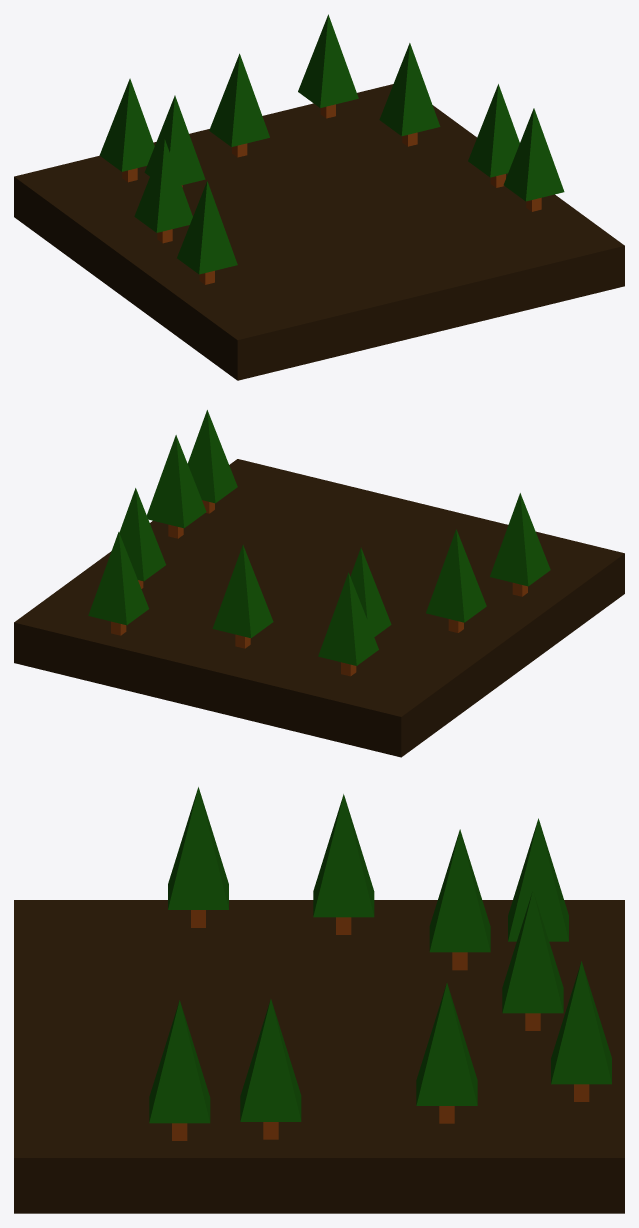
File: Forest2.obj
3 renders of one model, top to bottom at view 1: azimuth 30°, elevation 25°; view 2: azimuth 150°, elevation 25°; view 3: azimuth 270°, elevation 25°, orthographic. The views are drawn at different scales.
Visible parts, largest first — view 1: Tilebase146, Pyramid497, Pyramid494, Pyramid496, Pyramid486, Pyramid489, Pyramid492, Pyramid491, Pyramid493, Pyramid490; view 2: Tilebase146, Pyramid497, Pyramid492, Pyramid489, Pyramid496, Pyramid491, Pyramid493, Pyramid494, Pyramid486, Pyramid490; view 3: Tilebase146, Pyramid489, Pyramid492, Pyramid494, Pyramid490, Pyramid496, Pyramid486, Pyramid493, Pyramid497, Pyramid491.
Part boxes in pixels (box(x1,y1,x2,y2)): Tilebase146: box(14, 84, 624, 380); Pyramid497: box(177, 181, 237, 274); Pyramid494: box(503, 108, 564, 201); Pyramid496: box(298, 14, 358, 107); Pyramid486: box(379, 43, 440, 136); Pyramid489: box(209, 53, 269, 146); Pyramid492: box(134, 139, 192, 232); Pyramid491: box(99, 78, 154, 171); Pyramid493: box(468, 84, 519, 177); Pyramid490: box(144, 95, 205, 185); Tilebase146: box(14, 459, 624, 757); Pyramid497: box(490, 493, 550, 586); Pyramid492: box(426, 529, 486, 622); Pyramid489: box(212, 545, 273, 637); Pyramid496: box(88, 532, 148, 625); Pyramid491: box(318, 572, 378, 665); Pyramid493: box(147, 435, 206, 528); Pyramid494: box(187, 410, 237, 503); Pyramid486: box(119, 488, 165, 581); Pyramid490: box(350, 547, 391, 636); Tilebase146: box(14, 900, 624, 1213); Pyramid489: box(502, 890, 563, 1013); Pyramid492: box(313, 794, 374, 917); Pyramid494: box(149, 1000, 210, 1123); Pyramid490: box(429, 829, 490, 952); Pyramid496: box(551, 961, 611, 1084); Pyramid486: box(416, 983, 477, 1105); Pyramid493: box(240, 999, 301, 1121); Pyramid497: box(168, 787, 228, 909); Pyramid491: box(508, 818, 568, 941).
Bounding box in the file's own units: 10 × 3.5 × 10.
